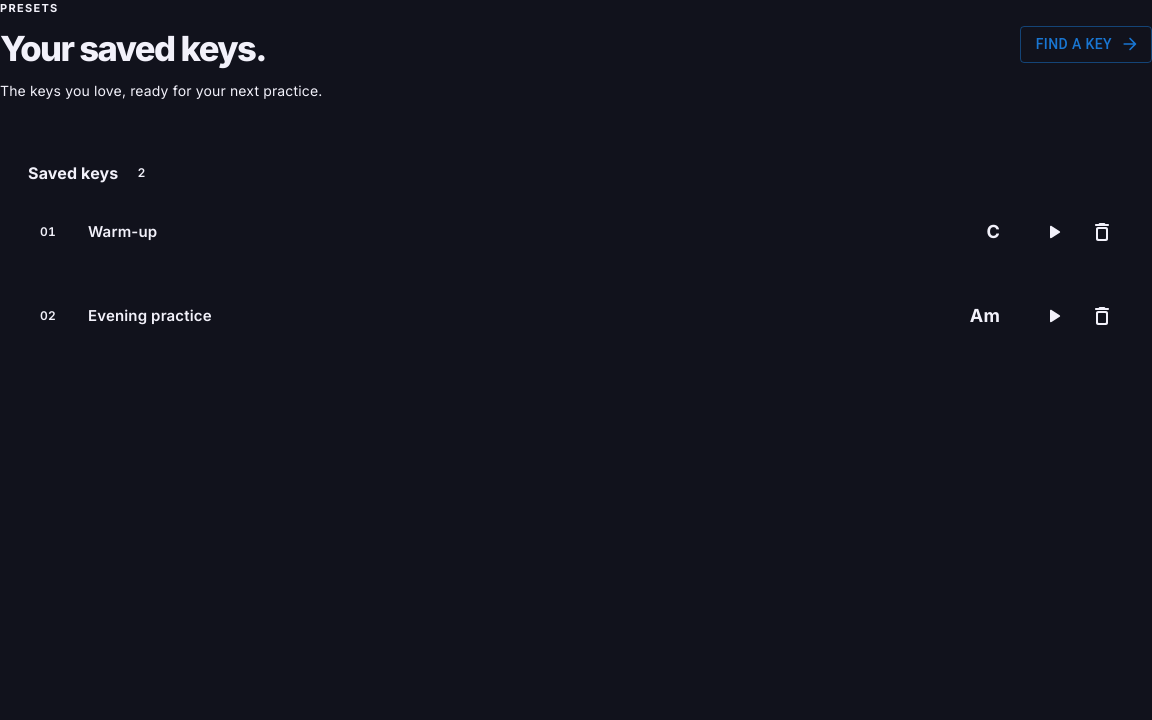
Test: saved-key deletion while audio is playing › keeps the same track marked as playing after an earlier preset is successfully removed
Click the button named "Play tone Evening practice" at (1054, 316), box [1032, 294, 1076, 338]
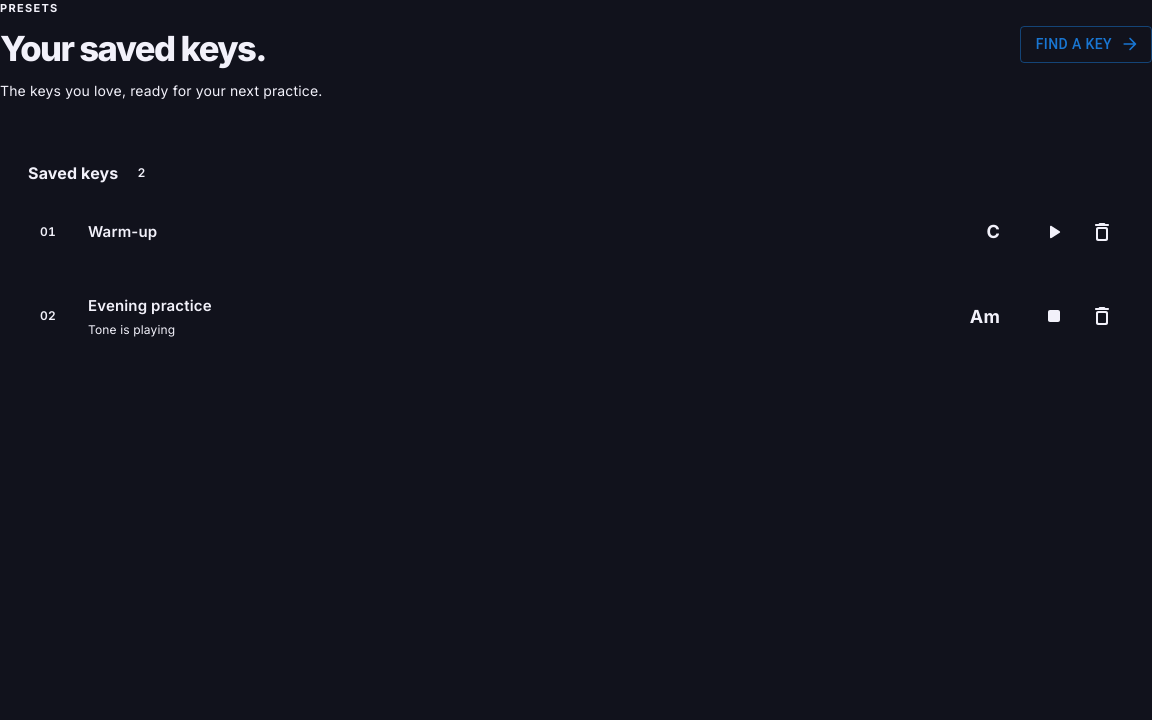
Click the button named "Delete Warm-up" at (1102, 232), box [1080, 210, 1124, 254]
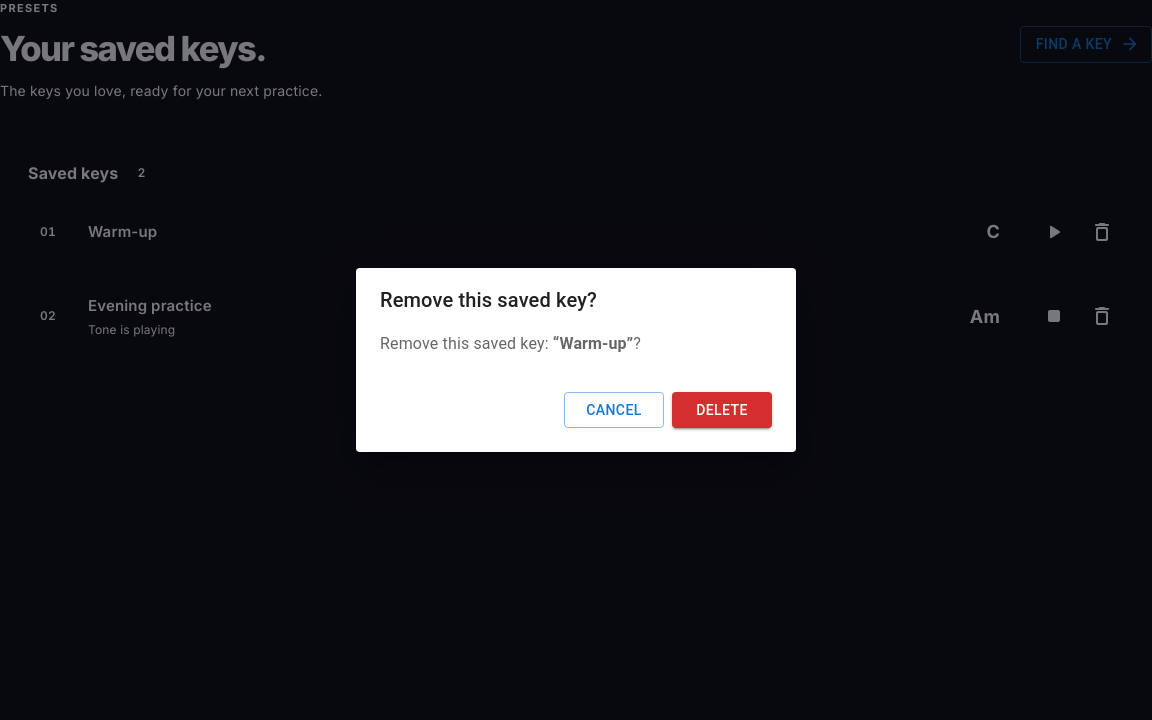
Click the button "Delete" at (722, 410), box [672, 392, 772, 428]
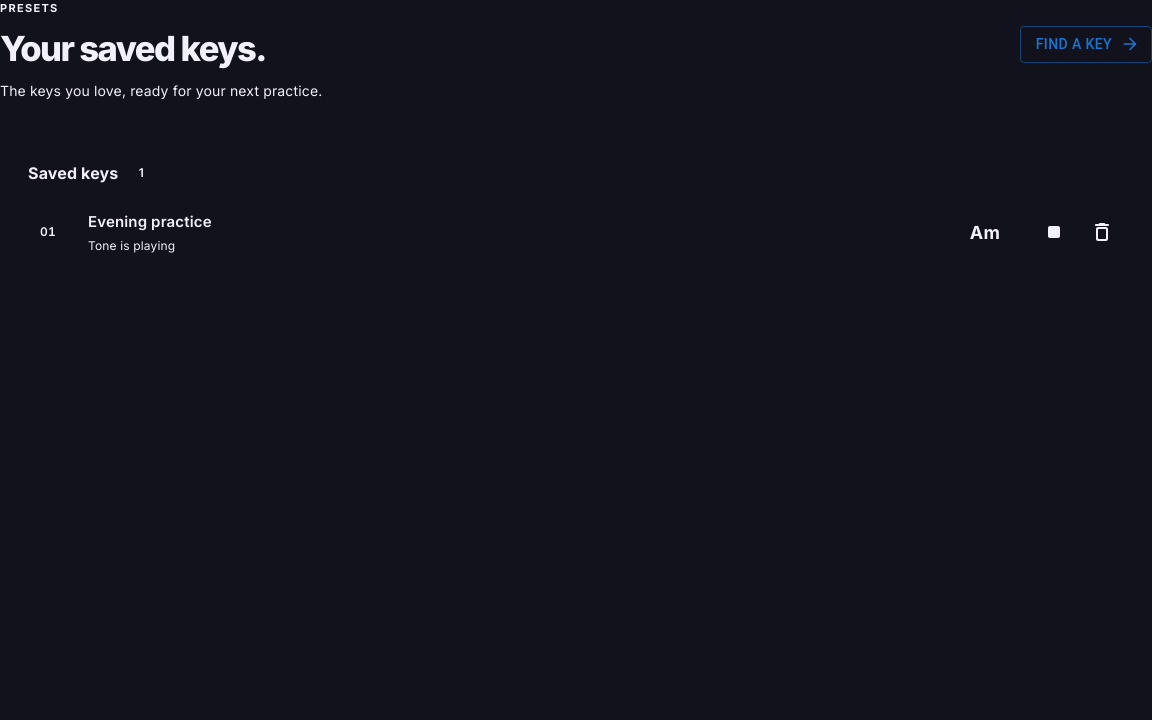
Check: the text "Tone is playing" is shown, box [88, 238, 175, 253]
Check: the dialog is gone
Check: the heading "Warm-up" is gone
